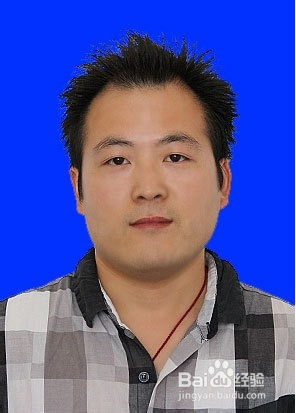unmask: (79, 101, 216, 257)
